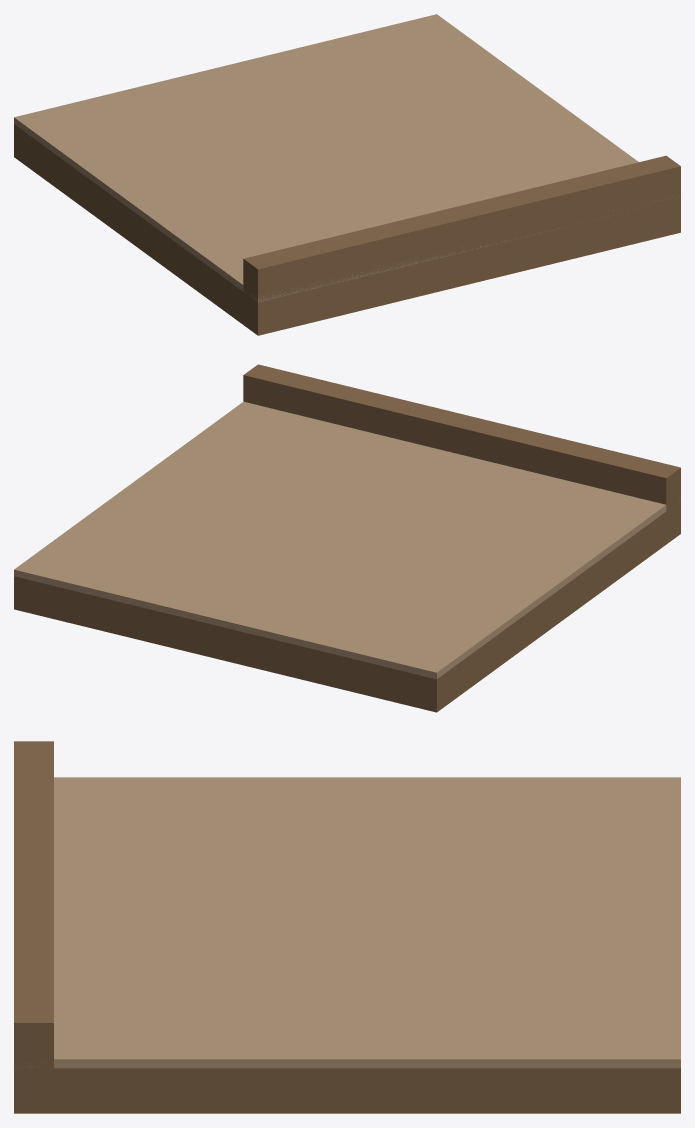
The model's file is SM_Roof_Flat.glb.
3 views of the same model, one above another, from view 1: azimuth 30°, elevation 25°; view 2: azimuth 150°, elevation 25°; view 3: azimuth 270°, elevation 25° (orthographic). The views are drawn at different scales.
Visible parts, largest first — view 1: SM_Roof_Flat; view 2: SM_Roof_Flat; view 3: SM_Roof_Flat.
Part boxes in pixels (<box>): SM_Roof_Flat: <box>14,14,680,335</box>; SM_Roof_Flat: <box>14,364,680,712</box>; SM_Roof_Flat: <box>14,741,680,1113</box>.
Bounding box in the file's own units: 2 × 0.3 × 2.
